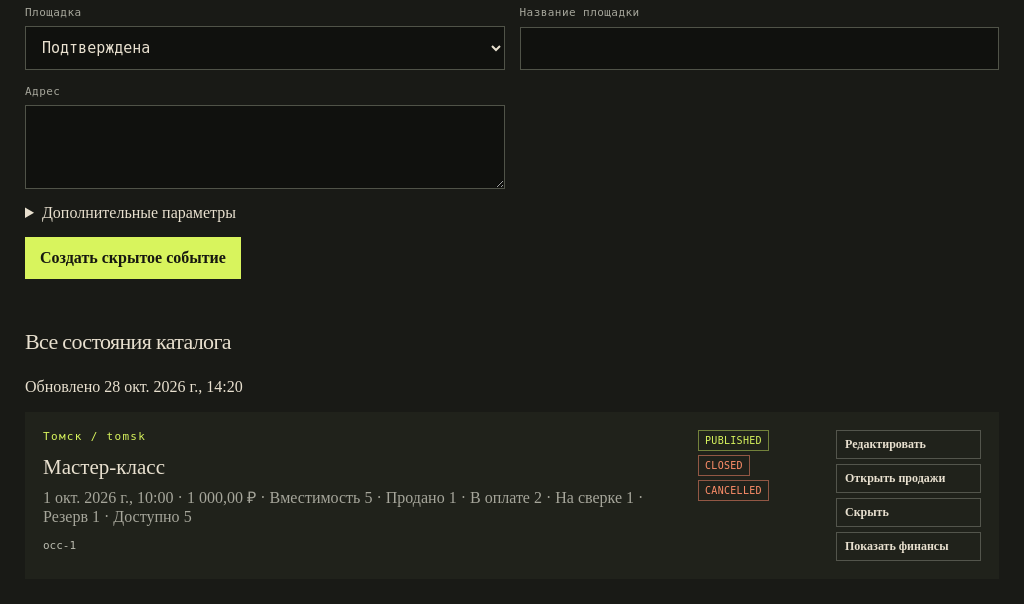
Test: Occurrences › keeps polling the cancellation-financials of the same mounted occurrence unaided every 15s, with no user action (A2, part b)
(page scrolled)
Expected: the heading "Мастер-класс" is shown, [43,455,165,479]
Click the button "Показать финансы". click: (908, 546)
box: [836,532,981,561]
Wait 15000 ms
(page scrolled)
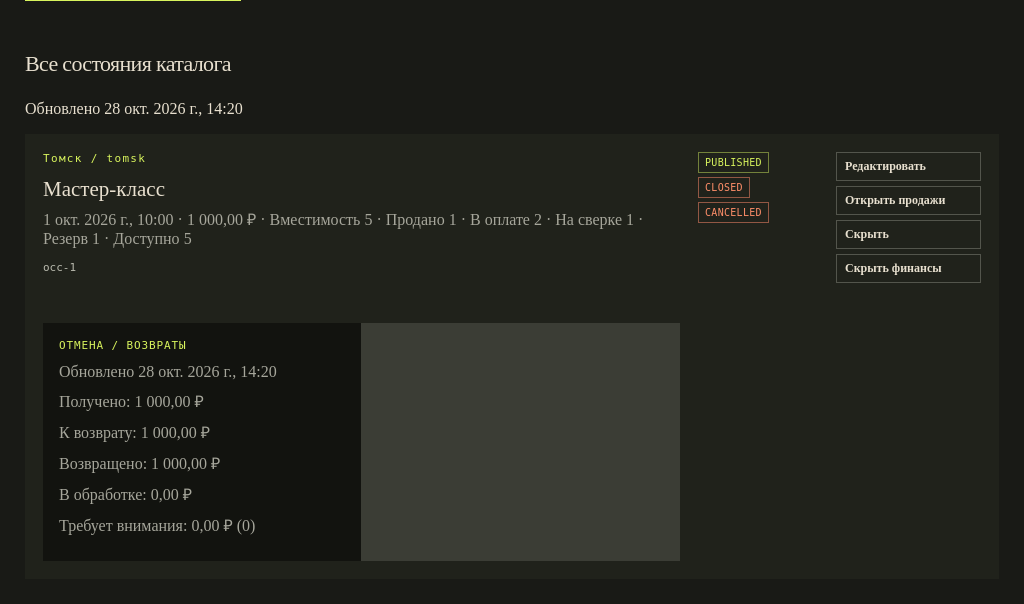
Expected: the text "В обработке: 0,00 ₽" is shown, [59,486,192,503]
